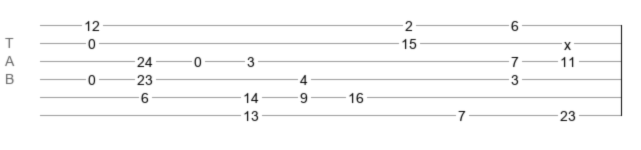0: (88, 72, 96, 82), (88, 36, 96, 46), (194, 54, 202, 64)
11: (560, 54, 576, 64)
12: (84, 18, 100, 28)
13: (243, 108, 259, 118)
14: (243, 90, 259, 100)
15: (401, 36, 417, 46)
16: (348, 90, 364, 100)
2: (405, 18, 413, 28)
23: (137, 72, 153, 82), (560, 108, 576, 118)
24: (137, 54, 153, 64)
3: (247, 54, 255, 64), (511, 72, 519, 82)
4: (300, 72, 308, 82)
6: (141, 90, 149, 100), (511, 18, 519, 28)
7: (458, 108, 466, 118), (511, 54, 519, 64)
9: (300, 90, 308, 100)
x: (564, 37, 571, 45)
